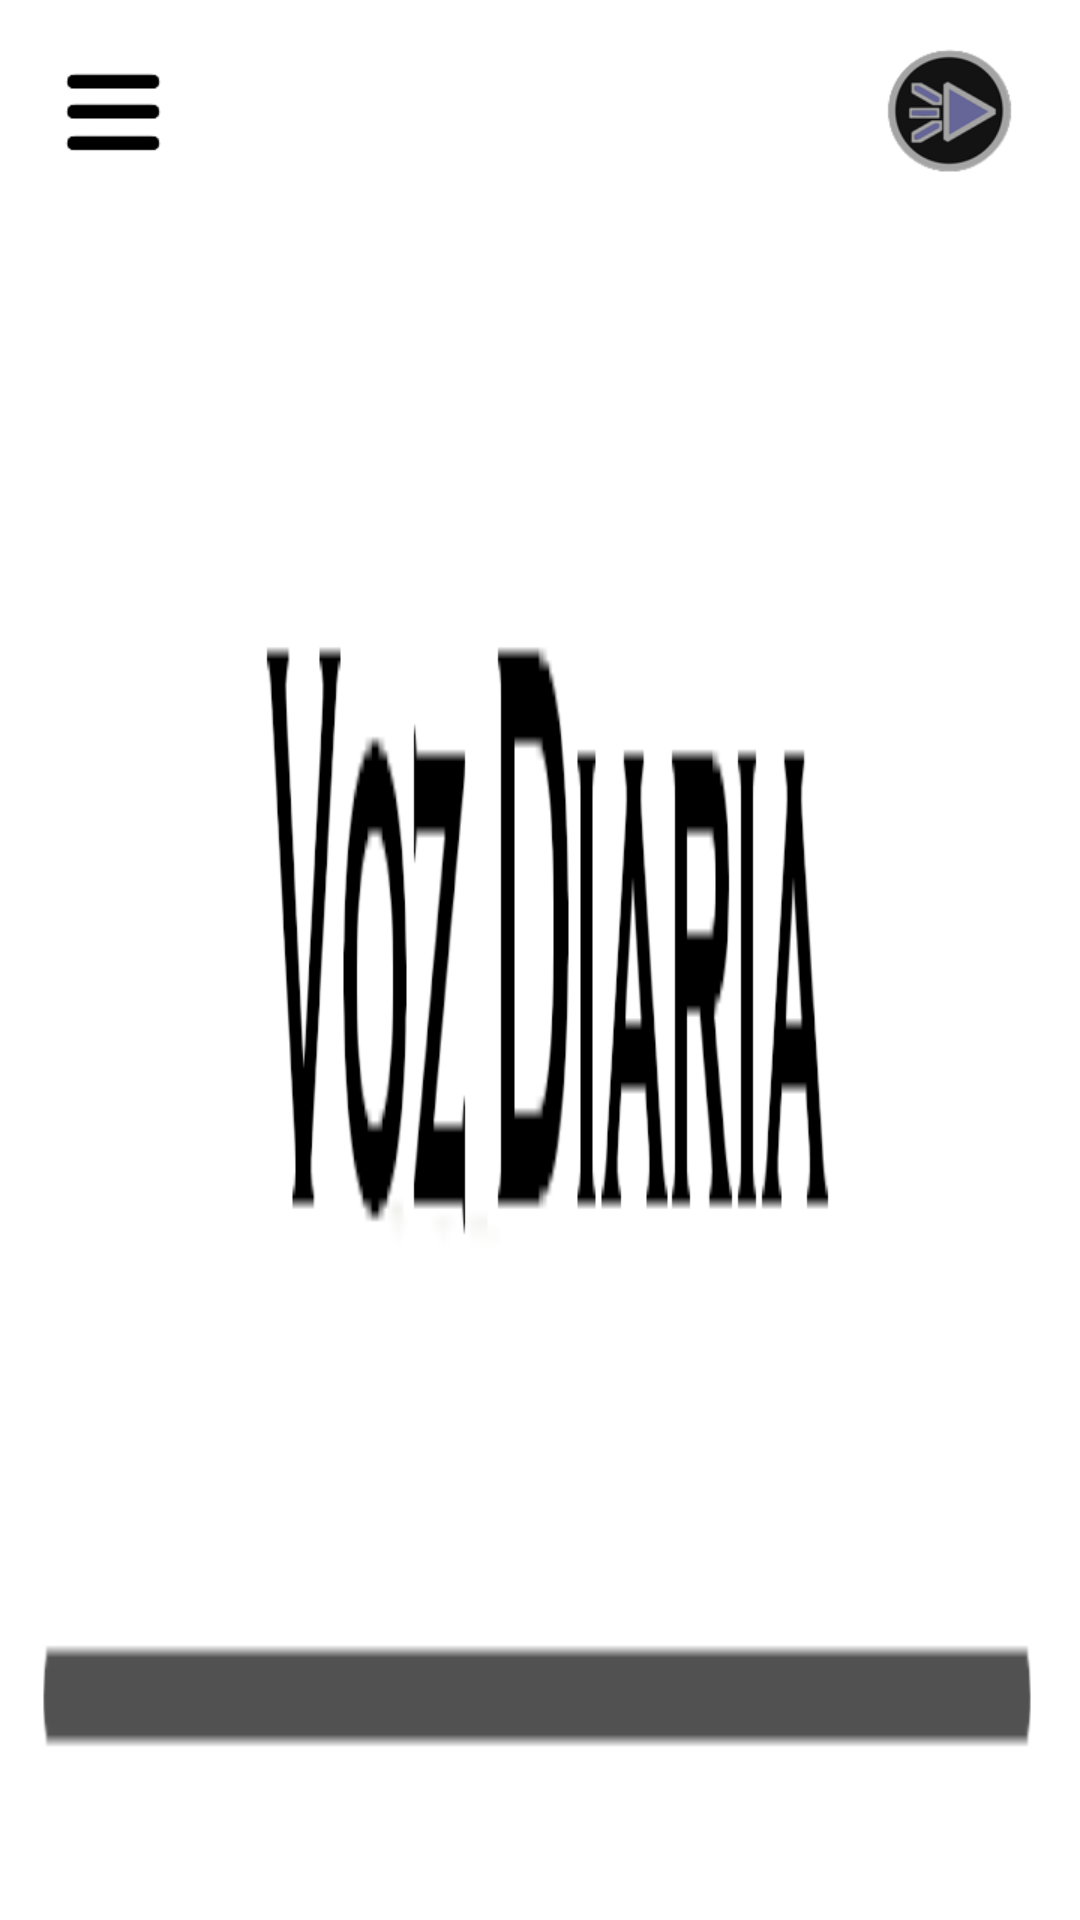

Point at icon controls on the screen. Image size 1080w x 1920h, points as (x=x, y=y).
barra: (x=113, y=112)
play barra: (x=949, y=111)
